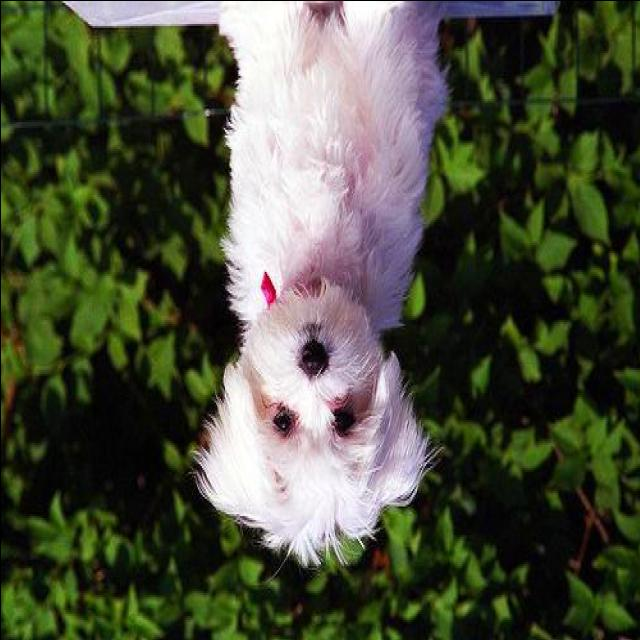maltese_dog: (194, 2, 440, 569)
